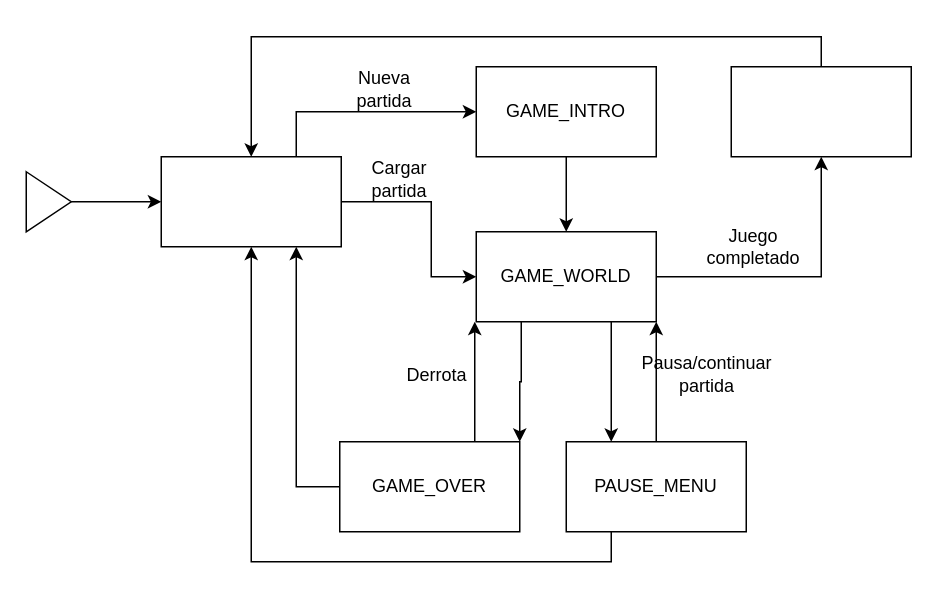
Image size: 938x600. Some labels were removed from this diagram. Each missing label, with the centre of its shape:
GAME_ENDING: the point at 820,111
TITLE_SCREEN: the point at 250,201
